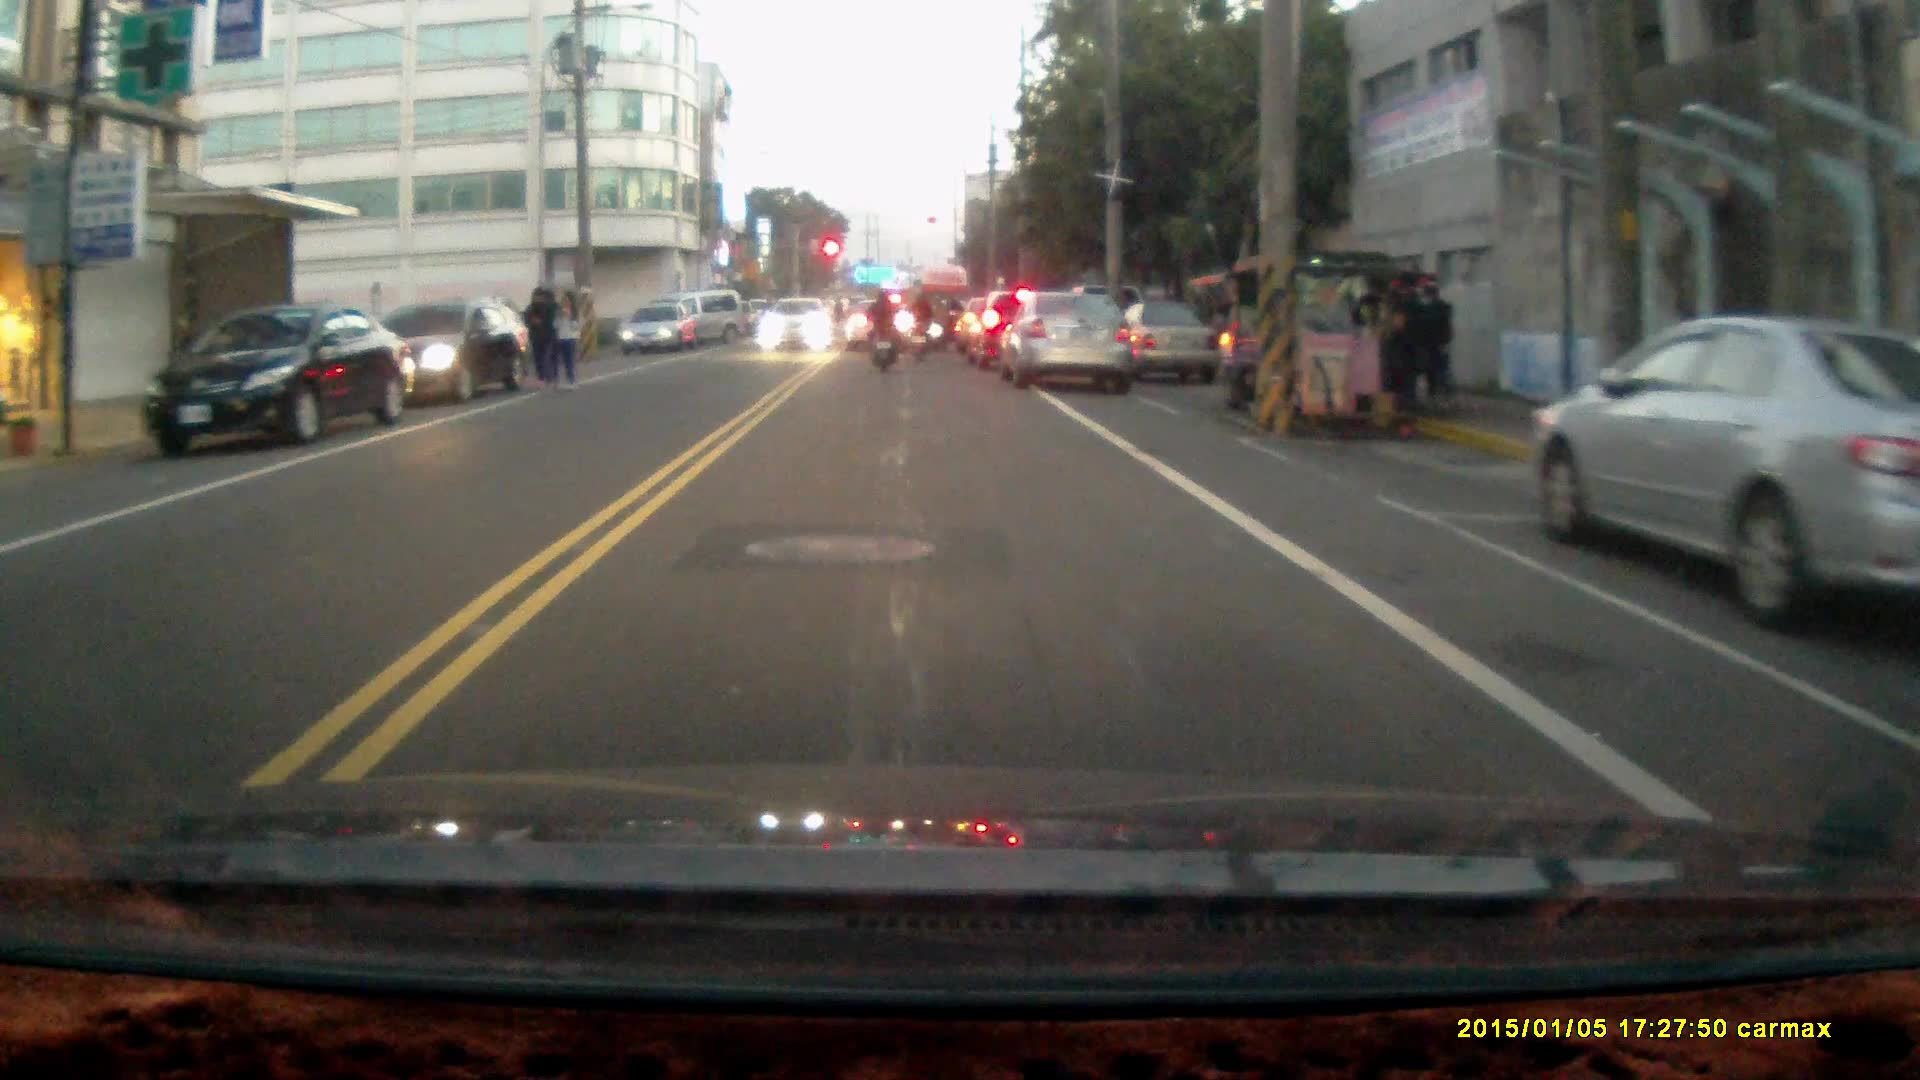pedestrian: (1415, 280, 1460, 410), (521, 281, 561, 391), (554, 286, 582, 392)
rider: (864, 284, 899, 373), (905, 287, 936, 362)
vehicle: (1526, 316, 1920, 642), (1214, 250, 1447, 431), (147, 303, 409, 453), (378, 298, 536, 408), (1006, 289, 1141, 394), (763, 295, 840, 355), (622, 300, 705, 352)
